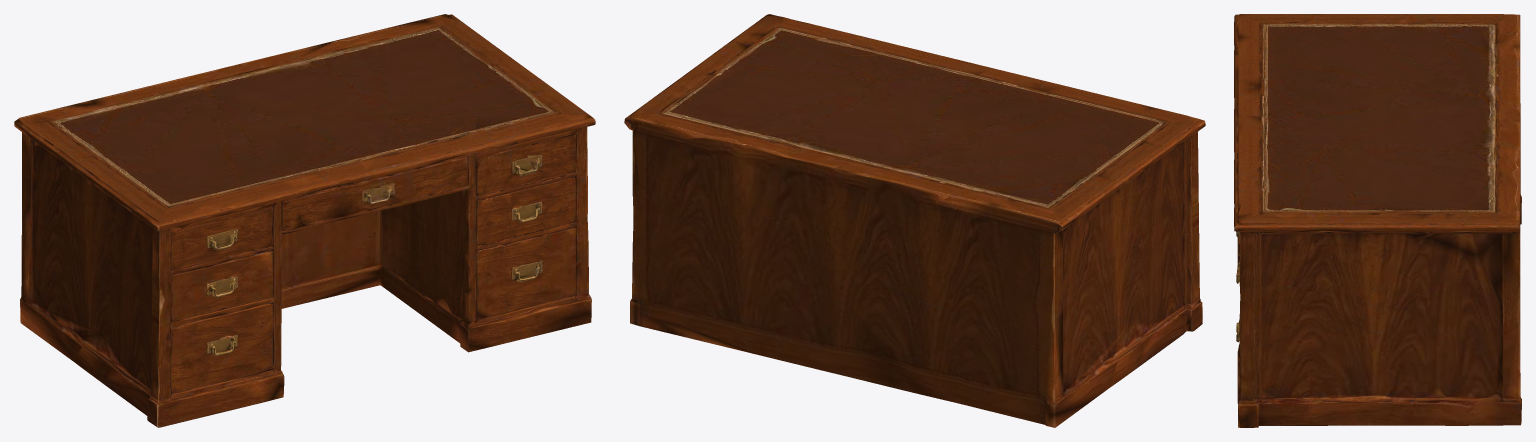
File: desk.glb
3 renders of one model, left to right at view 1: azimuth 30°, elevation 25°; view 2: azimuth 150°, elevation 25°; view 3: azimuth 270°, elevation 25°, orthographic.
Size of the model in its own units: 1.9 by 0.8566 by 1.09.
1 material, 1 textured.
